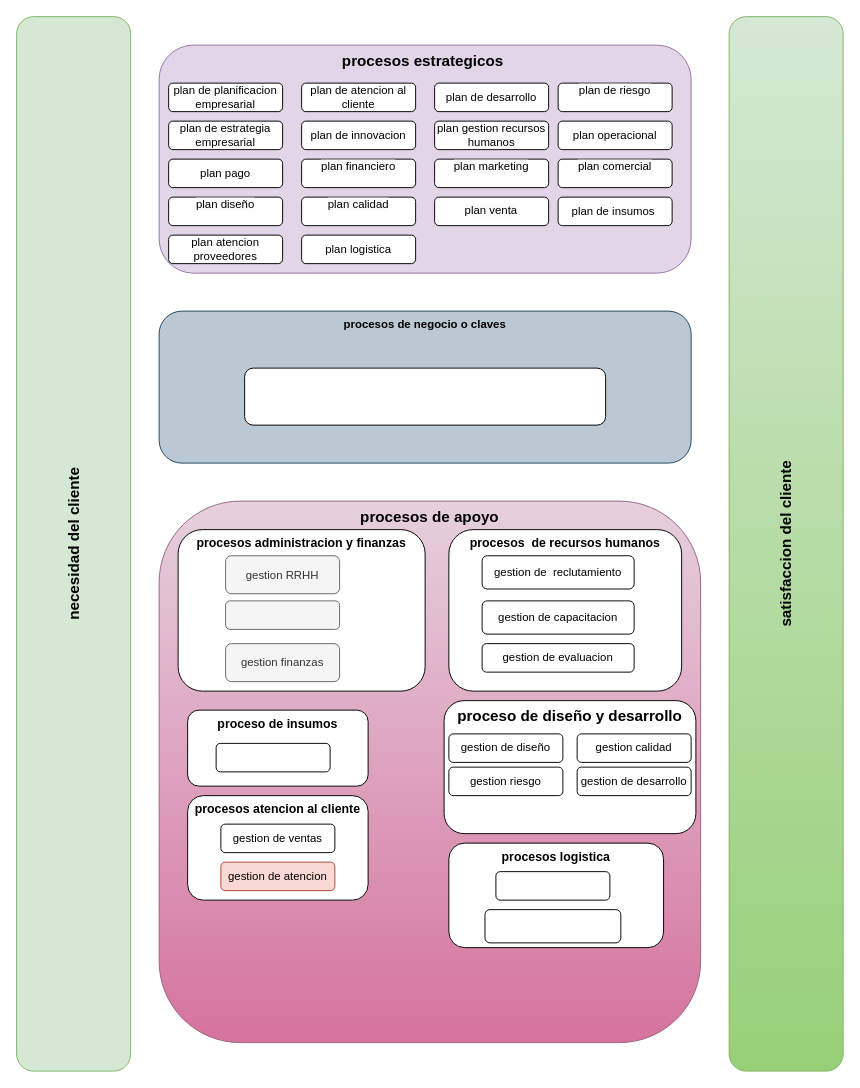
The diagram is 860 pixels wide and 1088 high, and some of its shapes have lost their labels. The shapes that lost their labels are listed below. From the top down, each one's centre as x and y in pixels, then its label:
At pixel 425 396: "venta de insumos y atencion veterinaria".
At pixel 282 614: "gestion pagos".
At pixel 272 757: "gestion de insumos".
At pixel 552 885: "gestion logistica".
At pixel 552 926: "gestion atencion proveedor".
